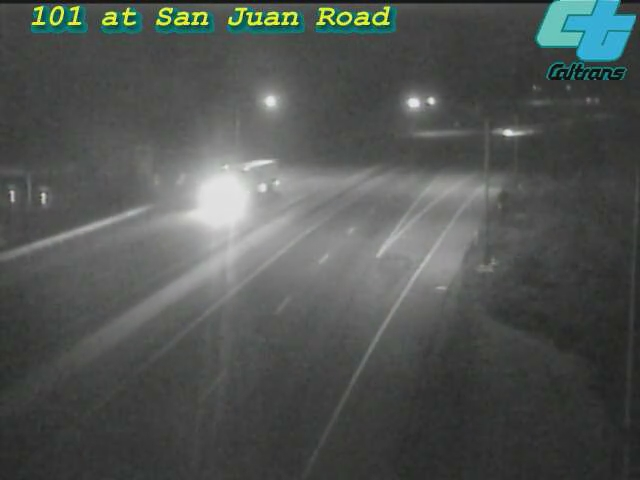vehicle: (186, 150, 266, 230), (483, 108, 533, 158)
